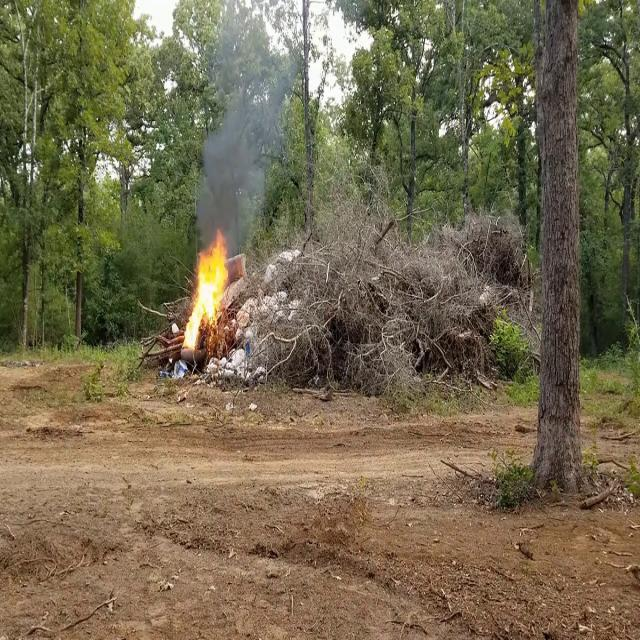Fire: (184, 232, 234, 350)
Smoke: (193, 4, 290, 250)
